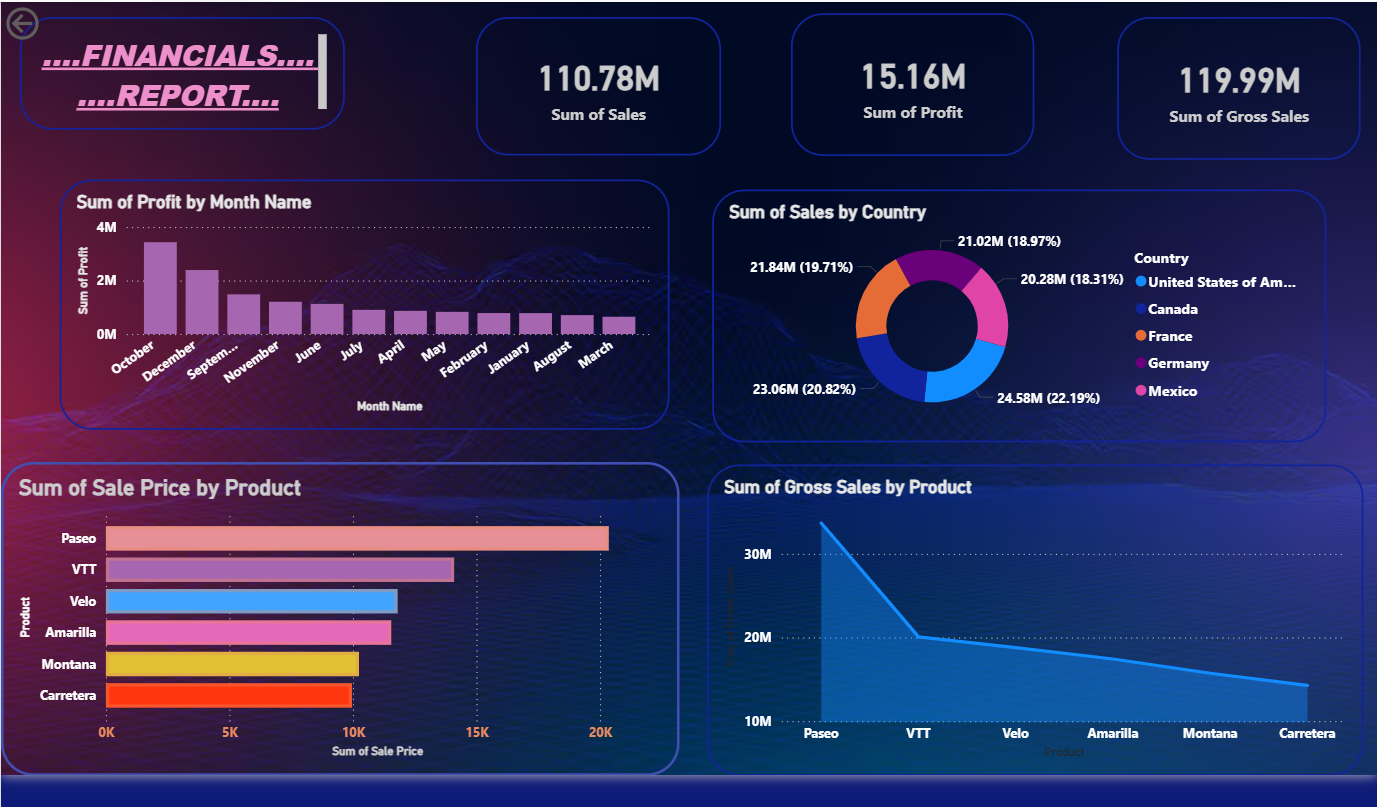

Layout of this report page (visuals, bound fields, positions):
{"tool":"powerbi","page":{"name":"Page 1","canvas":[1280,720],"ordinal":0},"visuals":[{"type":"textbox","box":[17.4,14,302.3,104.7],"z":0},{"type":"columnChart","fields":{"Category":["financials.Month Name"],"Y":["Sum(financials.Profit)"]},"box":[54.7,165.1,567.4,232.6],"z":1000},{"type":"barChart","fields":{"Category":["financials.Product"],"Y":["Sum(financials.Sale Price)"]},"box":[0,427.9,631.4,291.9],"z":2000},{"type":"donutChart","fields":{"Category":["financials.Country"],"Y":["Sum(financials.Sales)"]},"box":[661.6,174.4,570.9,234.9],"z":3000},{"type":"stackedAreaChart","fields":{"Y":["Sum(financials.Gross Sales)"],"Category":["financials.Product"]},"box":[657,430.2,610.5,289.5],"z":4000},{"type":"card","fields":{"Values":["Sum(financials.Sales)"]},"box":[441.9,14,227.9,129.1],"z":5000},{"type":"card","fields":{"Values":["Sum(financials.Profit)"]},"box":[734.9,10.5,226.7,132.6],"z":6000},{"type":"card","fields":{"Values":["Sum(financials.Gross Sales)"]},"box":[1038.4,14,226.7,132.6],"z":7000},{"type":"actionButton","box":[0,0,100,40],"z":8000}]}

Visuals, with their boxes on the page's 1280x720 design canvas (x1, y1, x2, y2). These are canvas units, not pixel positions in the 1377x807 screenshot, which may show the page scaled, cropped or inside an application window:
textbox: {"left": 17, "top": 14, "right": 320, "bottom": 119}
columnChart - financials.Month Name x Sum(financials.Profit): {"left": 55, "top": 165, "right": 622, "bottom": 398}
barChart - financials.Product x Sum(financials.Sale Price): {"left": 0, "top": 428, "right": 631, "bottom": 720}
donutChart - financials.Country x Sum(financials.Sales): {"left": 662, "top": 174, "right": 1232, "bottom": 409}
stackedAreaChart - Sum(financials.Gross Sales) x financials.Product: {"left": 657, "top": 430, "right": 1268, "bottom": 720}
card - Sum(financials.Sales): {"left": 442, "top": 14, "right": 670, "bottom": 143}
card - Sum(financials.Profit): {"left": 735, "top": 10, "right": 962, "bottom": 143}
card - Sum(financials.Gross Sales): {"left": 1038, "top": 14, "right": 1265, "bottom": 147}
actionButton: {"left": 0, "top": 0, "right": 100, "bottom": 40}
